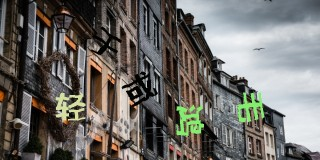于: (93, 26, 122, 55)
或: (122, 72, 158, 106)
轻: (54, 93, 86, 121)
鸿: (175, 104, 204, 136), (237, 91, 265, 122)
